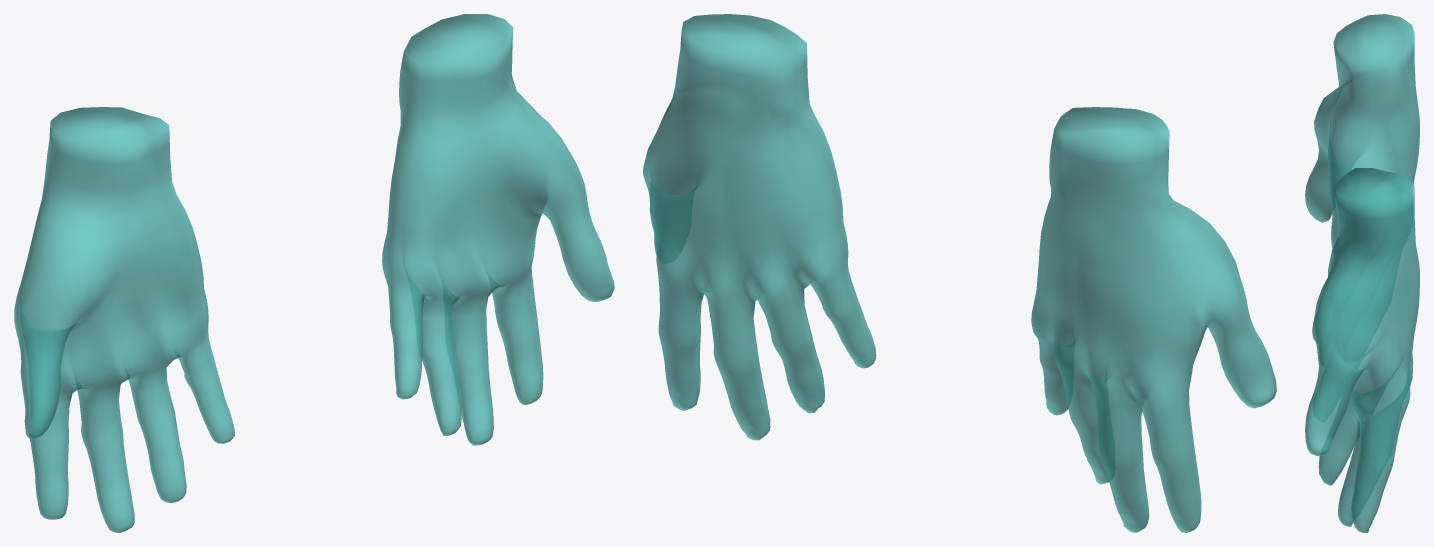
Rendered from handsModelV6.fbx.
3 views of the same model, side by side, from view 1: azimuth 30°, elevation 25°; view 2: azimuth 150°, elevation 25°; view 3: azimuth 270°, elevation 25° (orthographic). The views are drawn at different scales.
Parts seen in each view (by area): view 1: handL.001, handL; view 2: handL, handL.001; view 3: handL, handL.001.
Part boxes in pixels (x1,y1,x2,y2): handL.001: (14, 107, 234, 532); handL: (382, 14, 614, 445); handL: (643, 14, 876, 440); handL.001: (1031, 107, 1276, 532); handL: (1305, 168, 1419, 532); handL.001: (1305, 14, 1419, 341).
Size of the model in its own units: 666 by 434 by 132.
